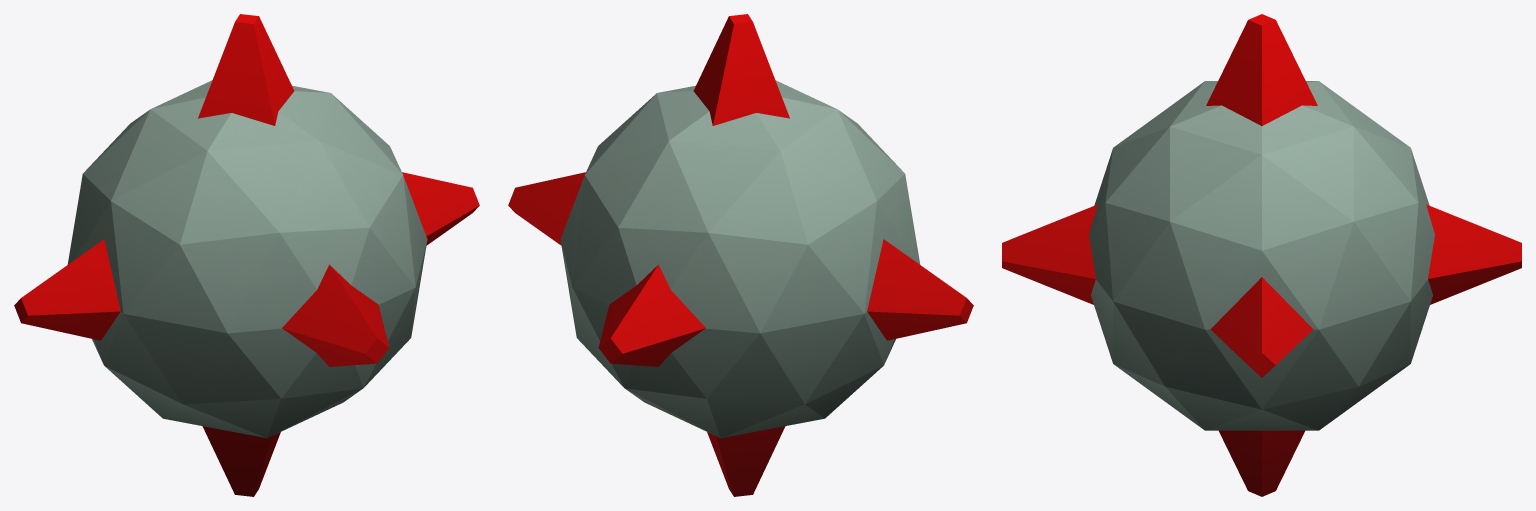
3 views of the same model, side by side, from view 1: azimuth 30°, elevation 25°; view 2: azimuth 150°, elevation 25°; view 3: azimuth 270°, elevation 25° (orthographic).
Parts seen in each view (by area): view 1: object.007; view 2: object.007; view 3: object.007.
Part boxes in pixels (<box>): object.007: <box>14,14,479,496</box>; object.007: <box>508,14,973,496</box>; object.007: <box>1002,14,1521,496</box>.
Size of the model in its own units: 208 by 208 by 208.
